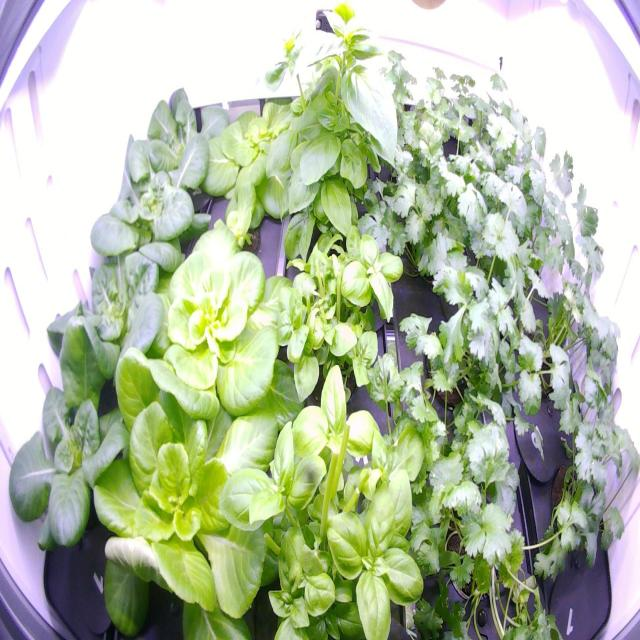young: (85, 314, 326, 640), (119, 206, 314, 430), (4, 314, 163, 584), (34, 200, 187, 420), (188, 71, 322, 252), (80, 118, 215, 295), (121, 70, 242, 217), (205, 198, 264, 266)
